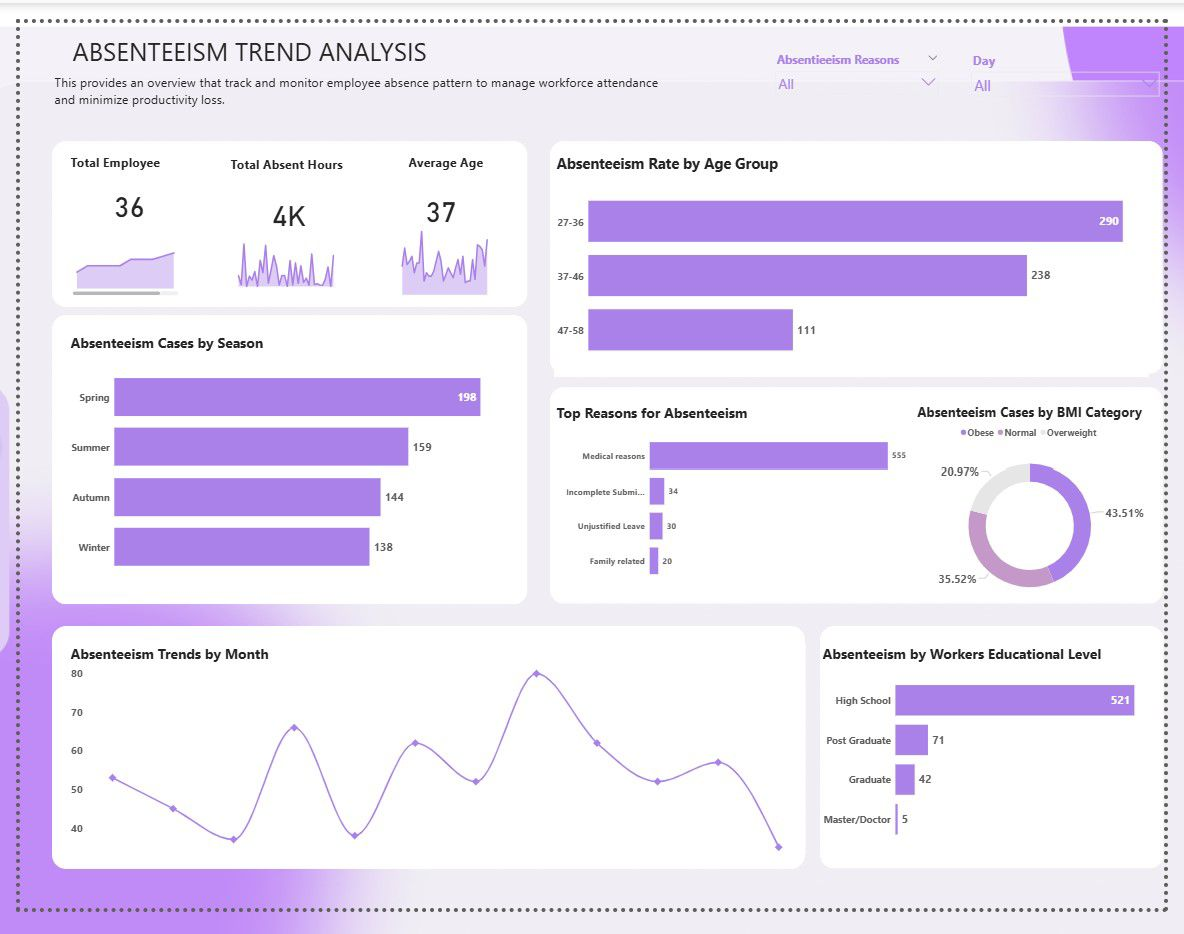

The dashboard page shown, as its layout file describes it:
{"tool":"powerbi","page":{"name":"Page 2","canvas":[2200,1700],"ordinal":1},"visuals":[{"type":"textbox","box":[95.5,14.7,767.4,102.8],"z":0},{"type":"textbox","box":[62.4,91.8,1193.3,110.2],"z":1000},{"type":"shape","box":[62.4,227.6,914.3,319.4],"z":2000},{"type":"shape","box":[62.4,561.8,914.3,554.4],"z":3000},{"type":"shape","box":[1020.7,227.6,1178.6,447.9],"z":4000},{"type":"shape","box":[1020.7,701.3,1178.6,414.9],"z":5000},{"type":"barChart","title":"Absenteeism count by Season","fields":{"Category":["Absenteeisms.Season"],"Y":["CountNonNull(Absenteeisms.ID)"]},"box":[91.8,594.8,840.8,492],"z":6000},{"type":"card","fields":{"Values":["Absenteeisms.Total Employee"]},"box":[110.2,293.7,198.3,110.2],"z":7000},{"type":"textbox","box":[91.8,246,216.6,84.4],"z":8000},{"type":"card","fields":{"Values":["Absenteeisms.Average age"]},"box":[686.6,279,242.3,150.5],"z":9000},{"type":"textbox","box":[742,247.3,185.5,74.9],"z":10000},{"type":"textbox","box":[400.2,249.7,253.3,80.8],"z":11000},{"type":"slicer","fields":{"Values":["Absenteeisms.Absentieeism Reasons"]},"box":[1443,51.4,334.1,121.2],"z":12000},{"type":"donutChart","title":"BMI per number of cases","fields":{"Category":["Absenteeisms.Body Mass Index"],"Y":["CountNonNull(Absenteeisms.ID)"]},"box":[1685.3,701.3,481,429.6],"z":13000},{"type":"barChart","title":"Which age group has the highest absenteeism case","fields":{"Category":["Absenteeisms.age group"],"Y":["CountNonNull(Absenteeisms.ID)"]},"box":[1028.1,227.6,1138.2,447.9],"z":14000},{"type":"shape","box":[63,1156.5,1448.1,467.3],"z":15000},{"type":"lineChart","title":"Number of Absenteeism case per month ","fields":{"Category":["Absenteeisms.Month Name of Absence"],"Y":["CountNonNull(Absenteeisms.ID)"]},"box":[92.8,1193,1418.3,404.3],"z":16000},{"type":"barChart","title":"Absenteeism Reasons per number of cases","fields":{"Category":["Absenteeisms.Absentieeism Reasons"],"Y":["CountNonNull(Absenteeisms.ID)"]},"box":[1028.1,701.3,682.9,385.5],"z":17000},{"type":"areaChart","fields":{"Category":["Absenteeisms.Month Name of Absence"],"Y":["Absenteeisms.Total Employee"]},"box":[95.5,403.9,213,124.8],"z":18000},{"type":"areaChart","fields":{"Y":["Absenteeisms.total absent hours"],"Category":["Absenteeisms.ID"]},"box":[400.2,378.2,238.7,135.9],"z":19000},{"type":"card","fields":{"Values":["Absenteeisms.total absent hours"]},"box":[440.6,290.1,150.5,150.5],"z":20000},{"type":"areaChart","fields":{"Y":["Absenteeisms.Average age"],"Category":["Absenteeisms.ID"]},"box":[716,381.9,216.6,146.9],"z":21000},{"type":"slicer","fields":{"Values":["Absenteeisms.Day name of the week"]},"box":[1817.5,51.4,381.9,121.2],"z":22000},{"type":"shape","box":[1538.4,1156.6,660.9,466.3],"z":23000},{"type":"barChart","title":"Education Level per number of cases","fields":{"Category":["Absenteeisms.Education Level"],"Y":["CountNonNull(Absenteeisms.ID)"]},"box":[1538.4,1156.6,653.6,440.6],"z":24000}]}

Visuals, with their boxes in screenshot pixels (x1, y1, x2, y2), scaled from the page's 2200x1700 canvas onto the 1184x934 screenshot:
textbox: x1=51, y1=8, x2=464, y2=65
textbox: x1=34, y1=50, x2=676, y2=111
shape: x1=34, y1=125, x2=526, y2=301
shape: x1=34, y1=309, x2=526, y2=613
shape: x1=549, y1=125, x2=1183, y2=371
shape: x1=549, y1=385, x2=1183, y2=613
"Absenteeism count by Season" barChart: x1=49, y1=327, x2=502, y2=597
card - Absenteeisms.Total Employee: x1=59, y1=161, x2=166, y2=222
textbox: x1=49, y1=135, x2=166, y2=182
card - Absenteeisms.Average age: x1=370, y1=153, x2=500, y2=236
textbox: x1=399, y1=136, x2=499, y2=177
textbox: x1=215, y1=137, x2=352, y2=182
slicer - Absenteeisms.Absentieeism Reasons: x1=777, y1=28, x2=956, y2=95
"BMI per number of cases" donutChart: x1=907, y1=385, x2=1166, y2=621
"Which age group has the highest absenteeism case" barChart: x1=553, y1=125, x2=1166, y2=371
shape: x1=34, y1=635, x2=813, y2=892
"Number of Absenteeism case per month " lineChart: x1=50, y1=655, x2=813, y2=878
"Absenteeism Reasons per number of cases" barChart: x1=553, y1=385, x2=921, y2=597
areaChart - Absenteeisms.Month Name of Absence x Absenteeisms.Total Employee: x1=51, y1=222, x2=166, y2=290
areaChart - Absenteeisms.total absent hours x Absenteeisms.ID: x1=215, y1=208, x2=344, y2=282
card - Absenteeisms.total absent hours: x1=237, y1=159, x2=318, y2=242
areaChart - Absenteeisms.Average age x Absenteeisms.ID: x1=385, y1=210, x2=502, y2=291
slicer - Absenteeisms.Day name of the week: x1=978, y1=28, x2=1183, y2=95
shape: x1=828, y1=635, x2=1183, y2=892
"Education Level per number of cases" barChart: x1=828, y1=635, x2=1180, y2=878
